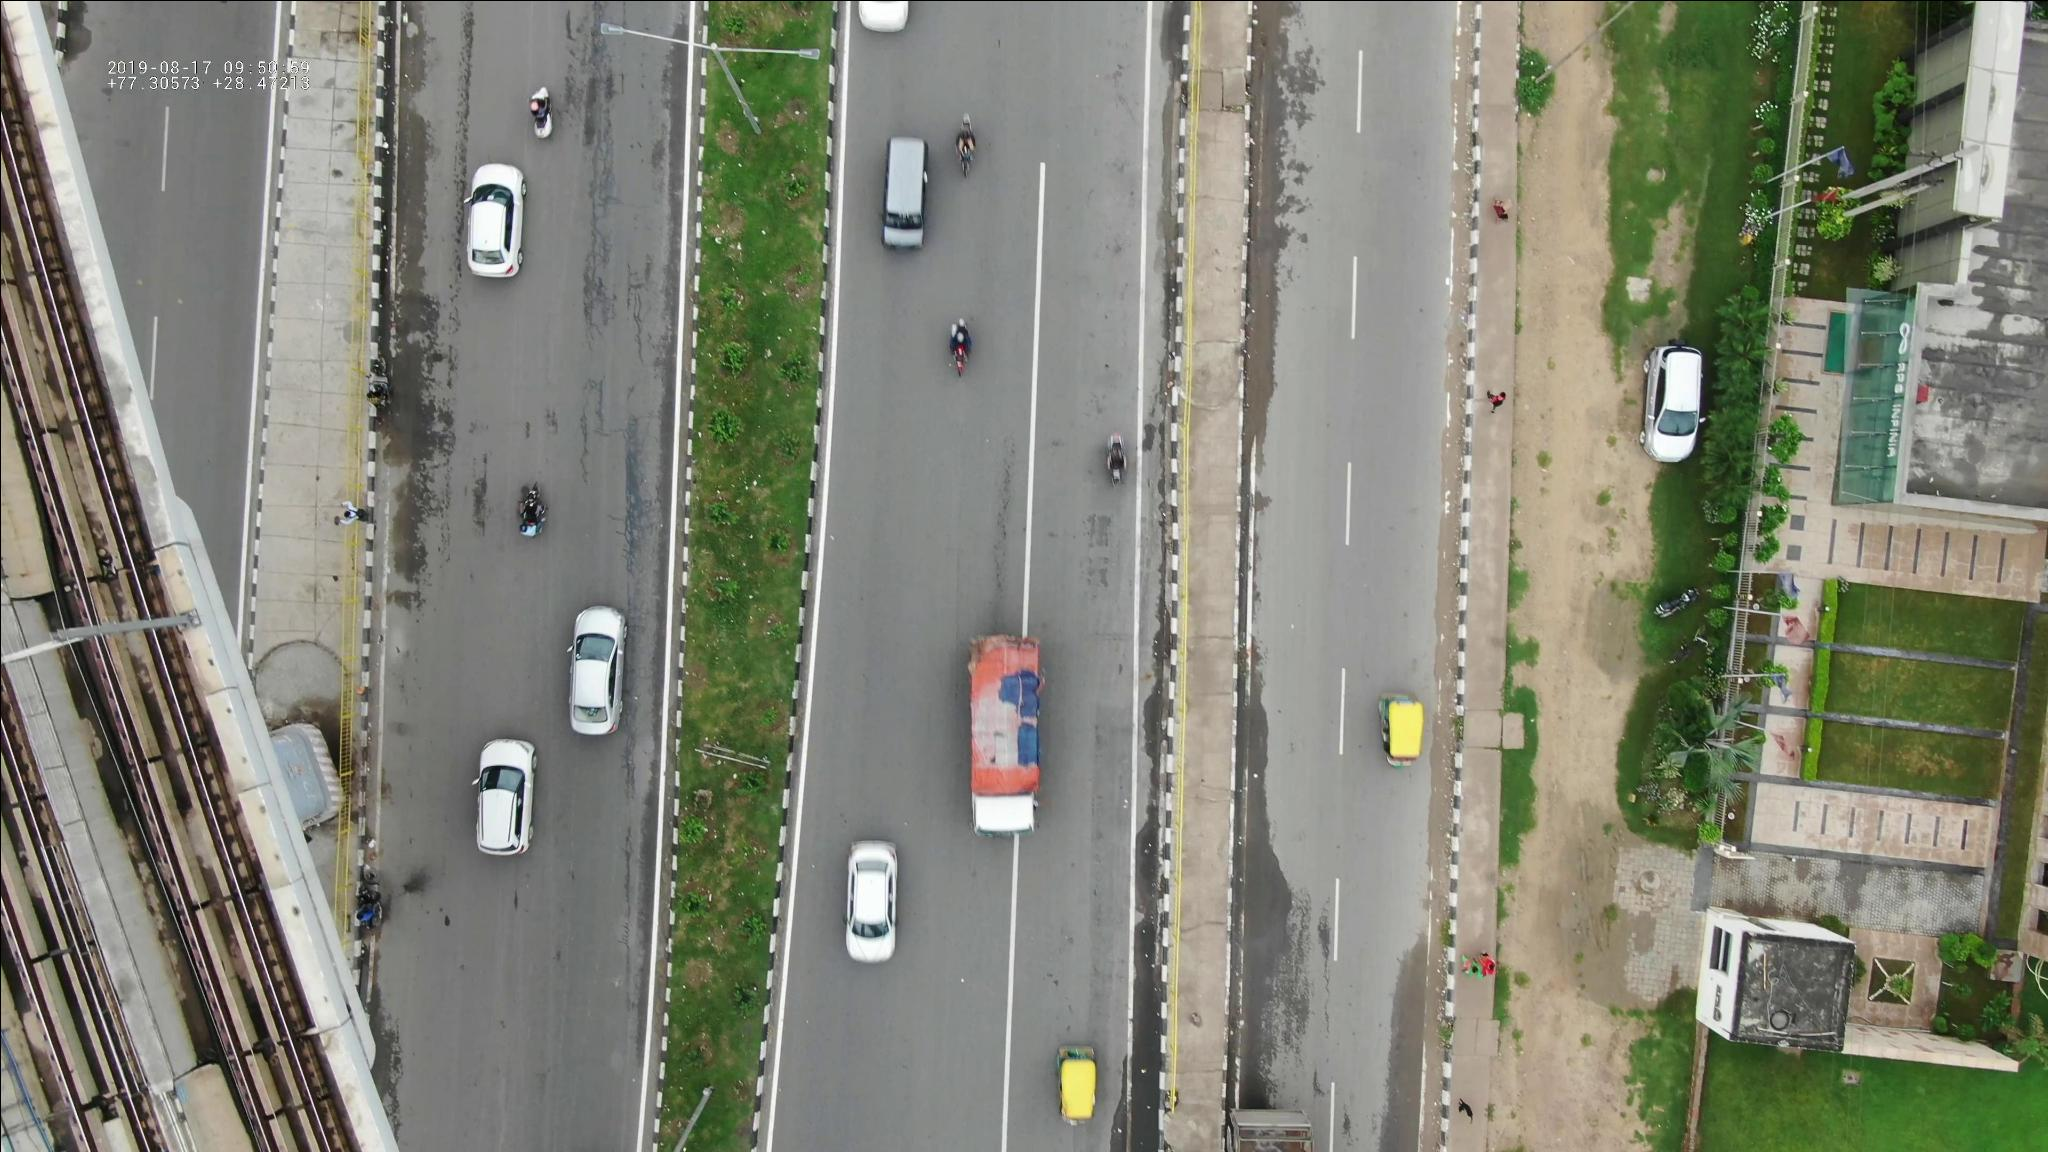Cracks: (544, 255, 672, 535)
